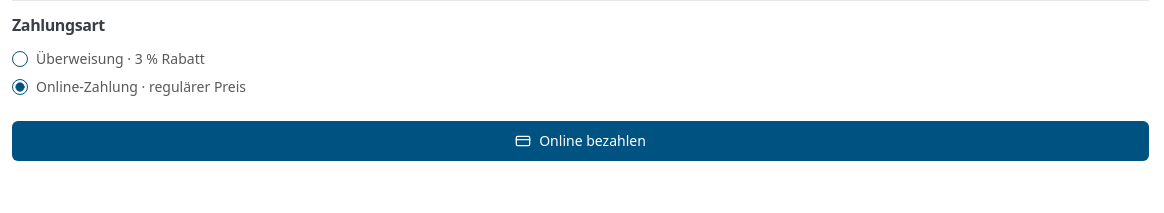
sign payment selection › never reloads a rejected payment choice as if it succeeded
The image size is (1164, 213).
Step 1. Click the radio button named "Überweisung · 3 % Rabatt" next to "Überweisung · 3 % Rabatt" → (20, 59), box [12,51,28,67]
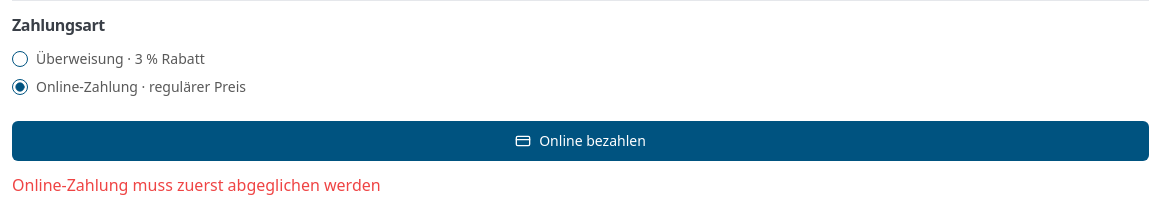
Expected: the message "Online-Zahlung muss zuerst abgeglichen werden" is shown, [12,174,381,196]
